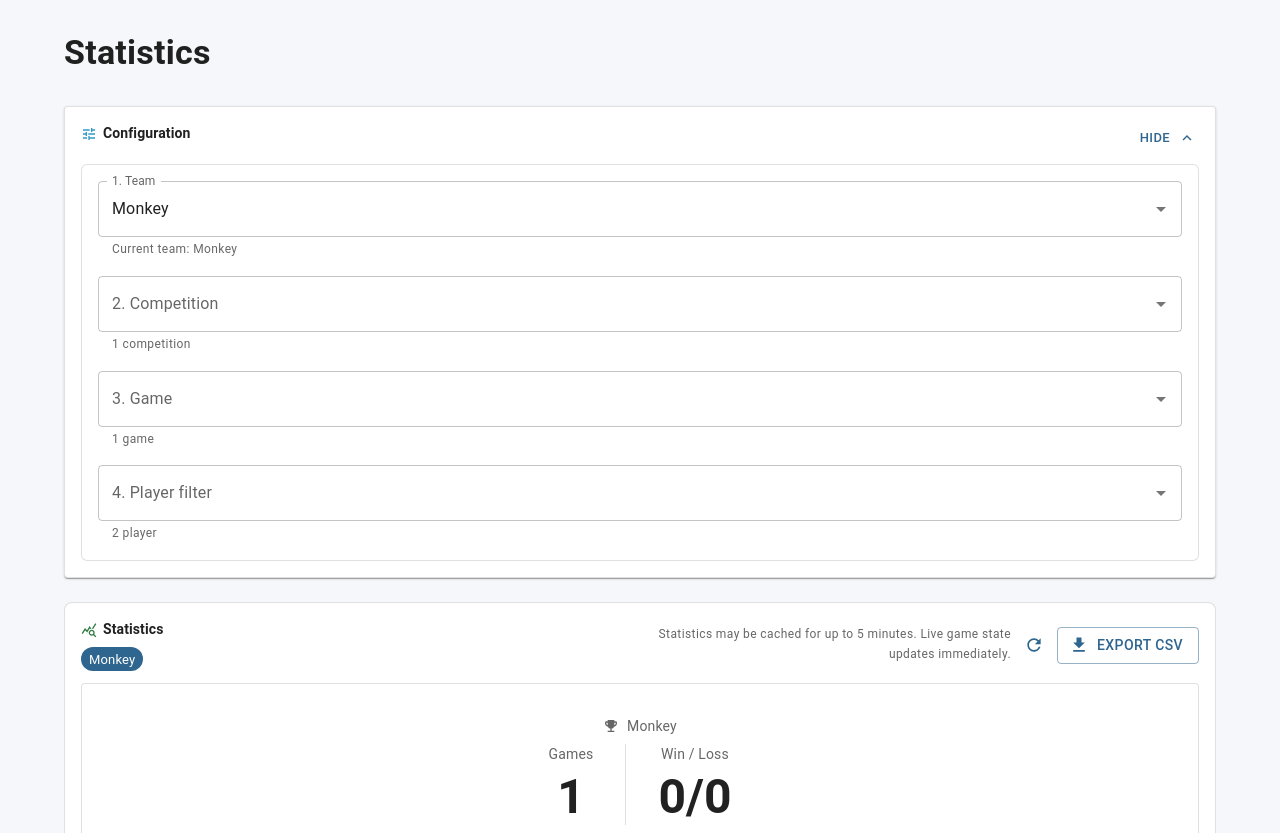
Test: StatisticsPage › supports selecting multiple players as a player filter
The image size is (1280, 833).
Click the dropdown labelled "4. Player filter": x=625, y=494 x1=107 y1=474 x2=1143 y2=512
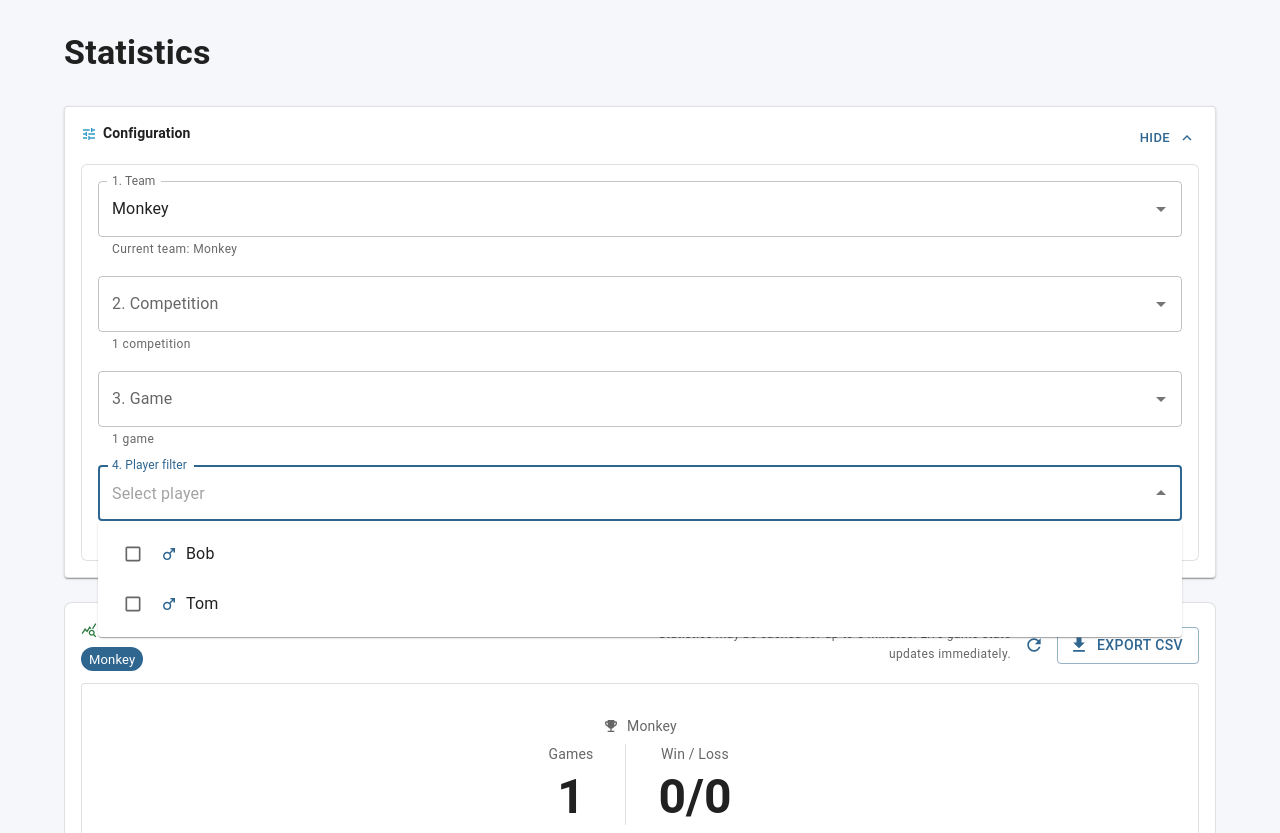
Click the option "Bob": x=169, y=554 x1=123 y1=544 x2=214 y2=564
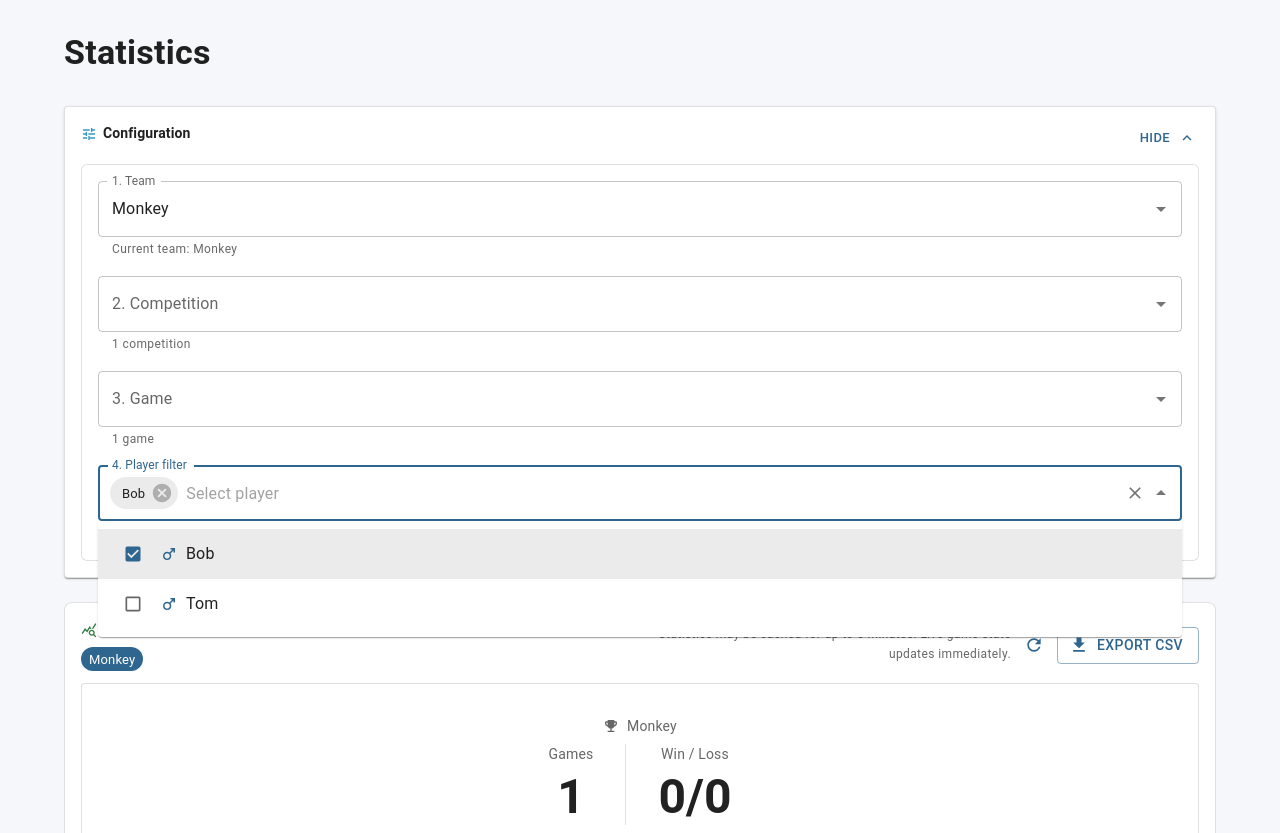
Click the option "Tom": x=171, y=604 x1=123 y1=594 x2=218 y2=614
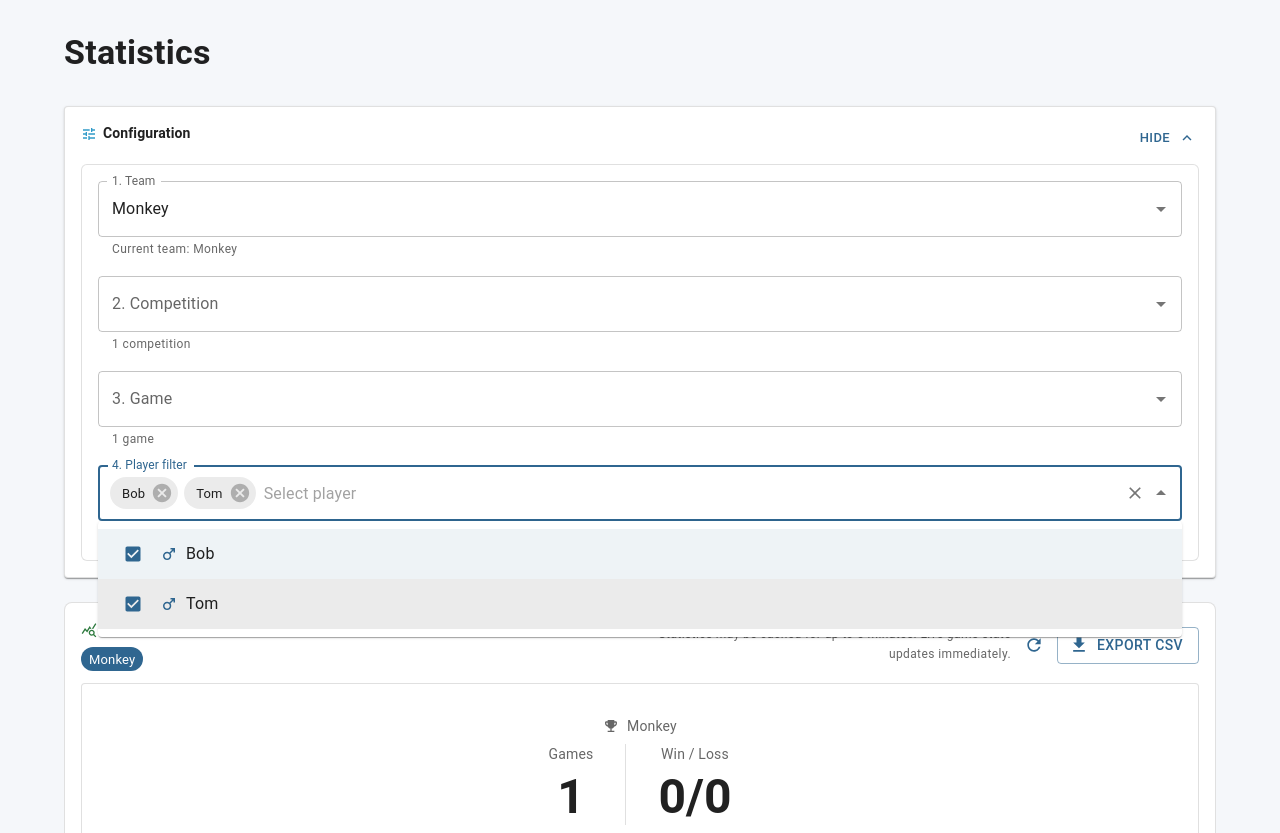
Check: the list is shown, box x1=98 y1=521 x2=1182 y2=637
Press Escape
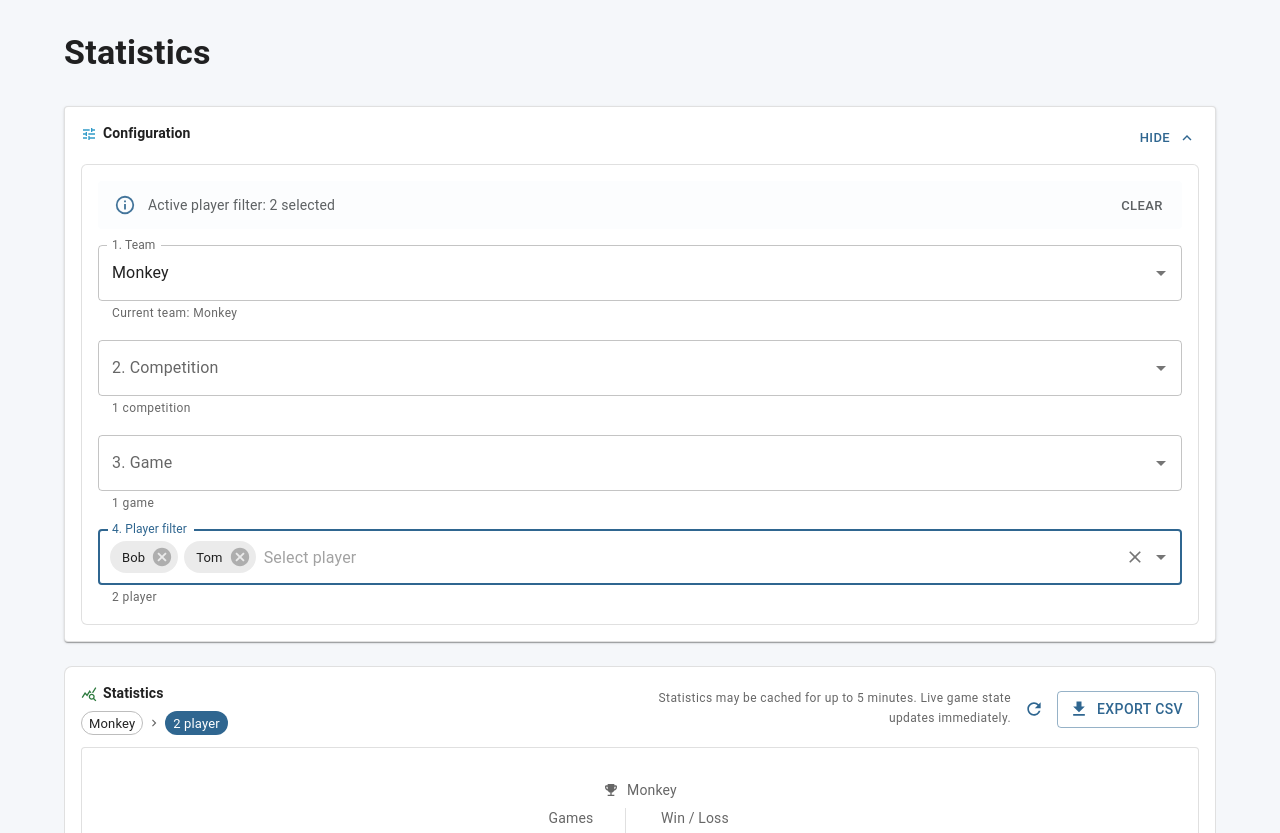
Check: the text "Active player filter: 2 selected" is shown, box x1=148 y1=197 x2=335 y2=213
